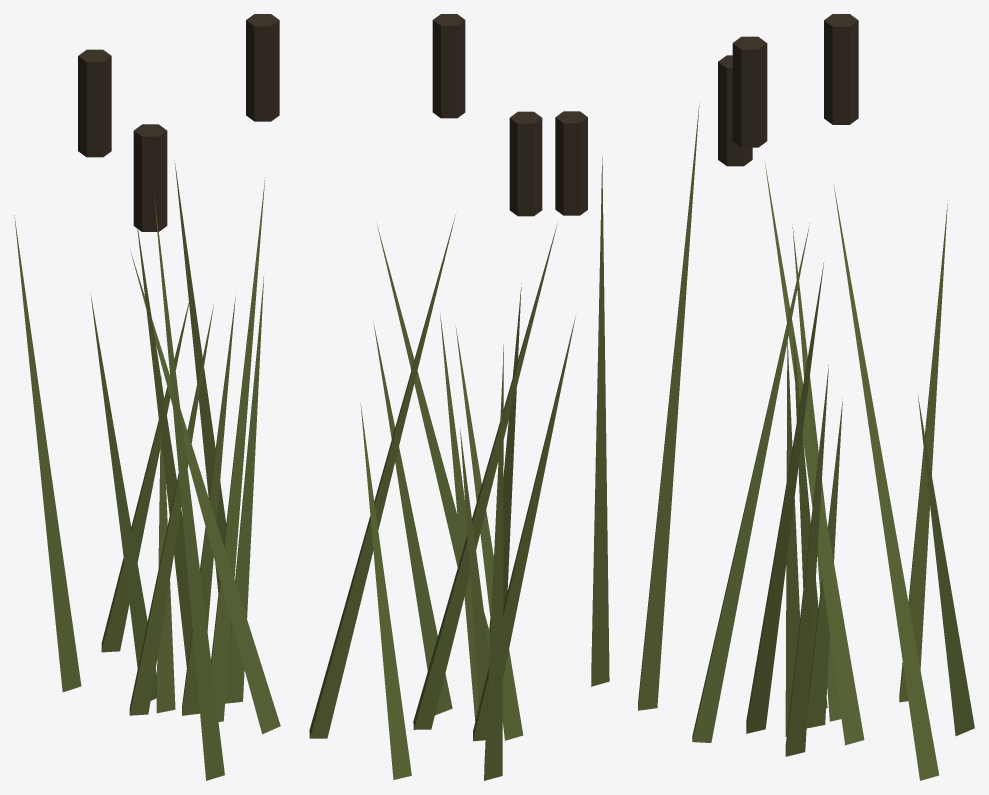
Rendered from SW_ENV_Reeds.fbx.
3 renders of one model, left to right at view 1: azimuth 30°, elevation 25°; view 2: azimuth 150°, elevation 25°; view 3: azimuth 270°, elevation 25°, orthographic. The views are drawn at different scales.
Visible parts, largest first — view 1: SW_ENV_Reeds; view 2: SW_ENV_Reeds; view 3: SW_ENV_Reeds.
Boxes of the visible parts, x1,y1,x2,y2 form: SW_ENV_Reeds: [14, 14, 280, 780]; SW_ENV_Reeds: [309, 14, 609, 780]; SW_ENV_Reeds: [638, 14, 974, 780].
Size of the model in its own units: 0.5871 by 1.83 by 0.7777.
